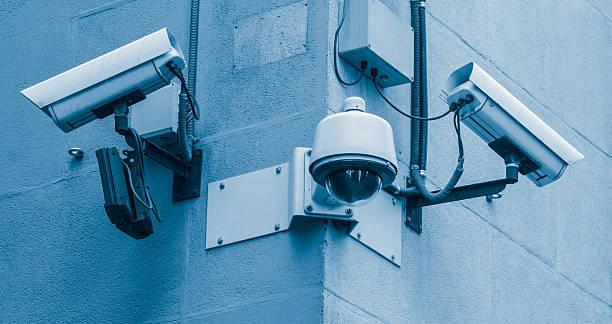camera: (7, 21, 243, 141), (434, 42, 592, 212), (285, 74, 407, 227)
